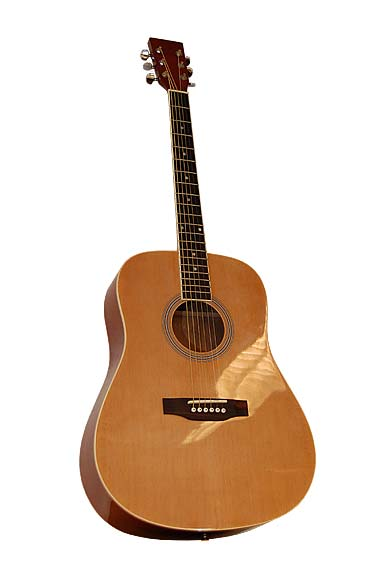guitar: (77, 36, 317, 542)
